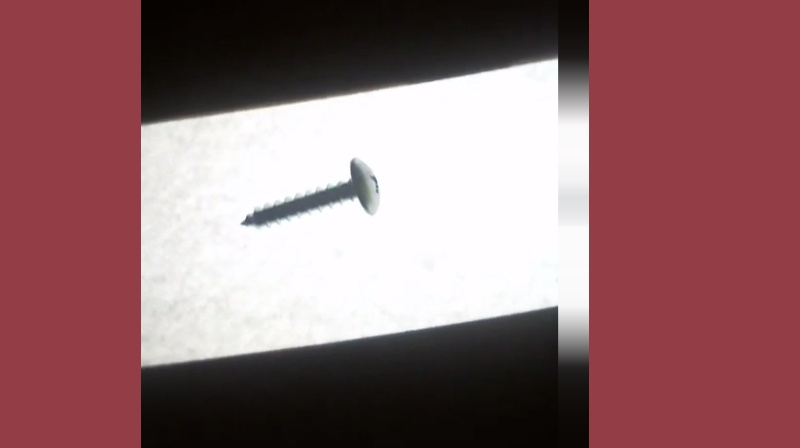S003: (238, 154, 386, 228)
